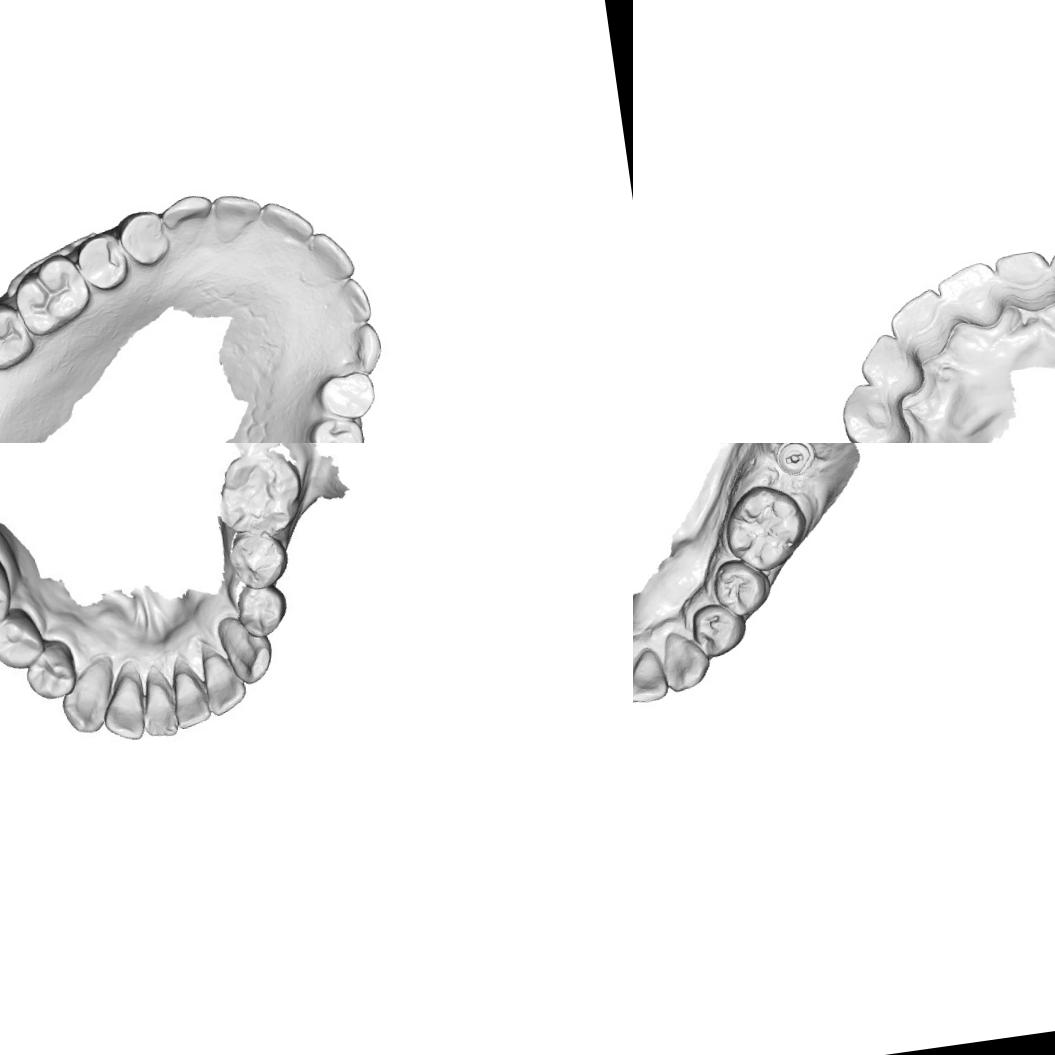canine: (836, 375, 915, 443), (61, 661, 120, 732), (658, 627, 714, 694), (218, 615, 272, 681), (162, 193, 214, 240), (342, 321, 386, 373)
implant_minus: (771, 443, 820, 479)
incisor: (932, 258, 1006, 337), (884, 286, 954, 366), (854, 329, 927, 401), (991, 246, 1055, 318), (102, 662, 148, 745), (197, 644, 244, 712), (138, 668, 179, 736), (308, 230, 359, 284), (260, 197, 313, 247), (170, 658, 212, 721), (212, 188, 262, 232), (633, 645, 669, 705), (341, 276, 377, 328)
molar: (718, 480, 812, 576), (217, 446, 305, 535), (8, 250, 95, 338), (0, 299, 38, 374)
premolar: (710, 556, 775, 622), (68, 229, 132, 294), (688, 598, 750, 660), (314, 369, 381, 425), (229, 532, 290, 589), (115, 209, 171, 268), (21, 644, 77, 698), (235, 582, 290, 636), (0, 616, 41, 669), (306, 414, 367, 443)
